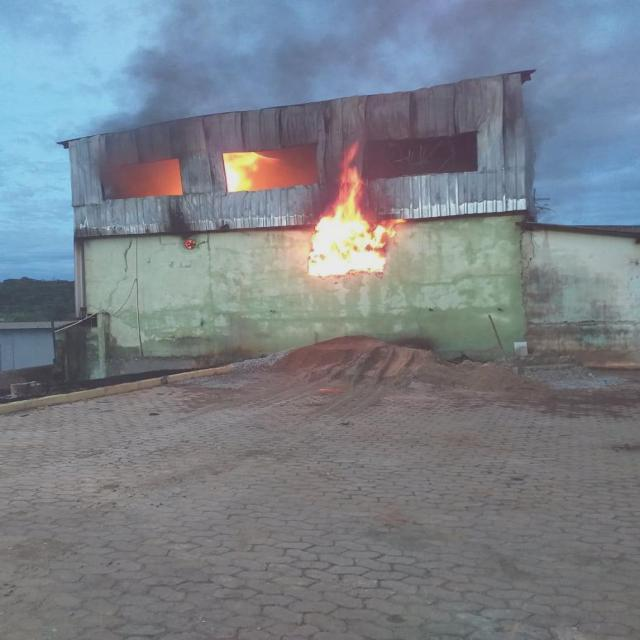Fire: (302, 140, 408, 278), (220, 152, 286, 191)
